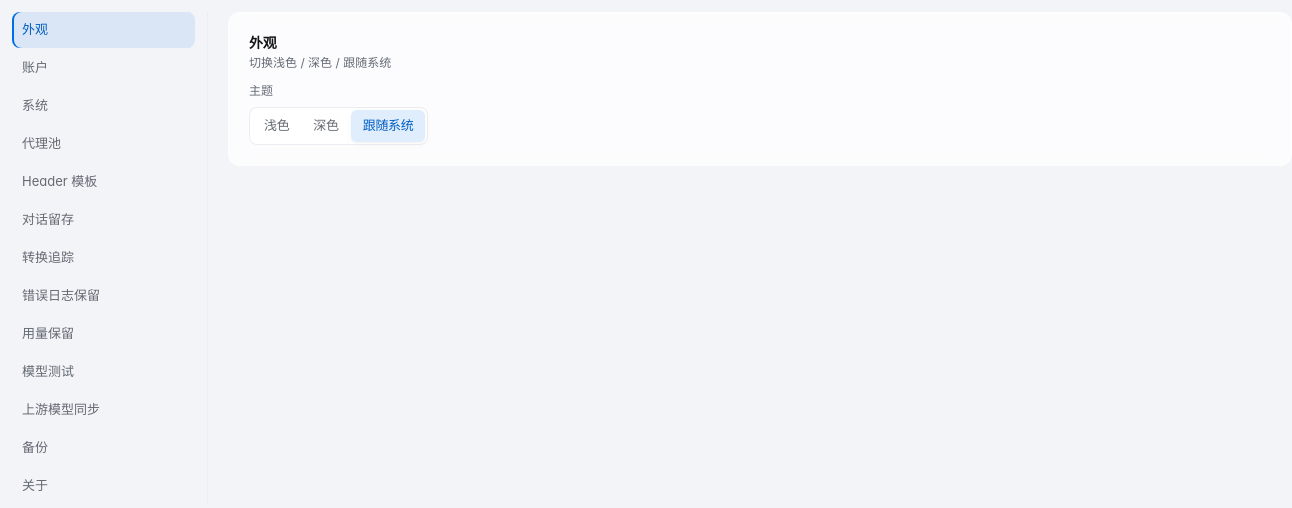
Test: <SettingsPage /> TesterSection 分组模型测试 › 选分组 → 开始测试 → 表格列出每个成员的测试结果
Click the button "模型测试": (104, 372) 12,354 -> 195,390
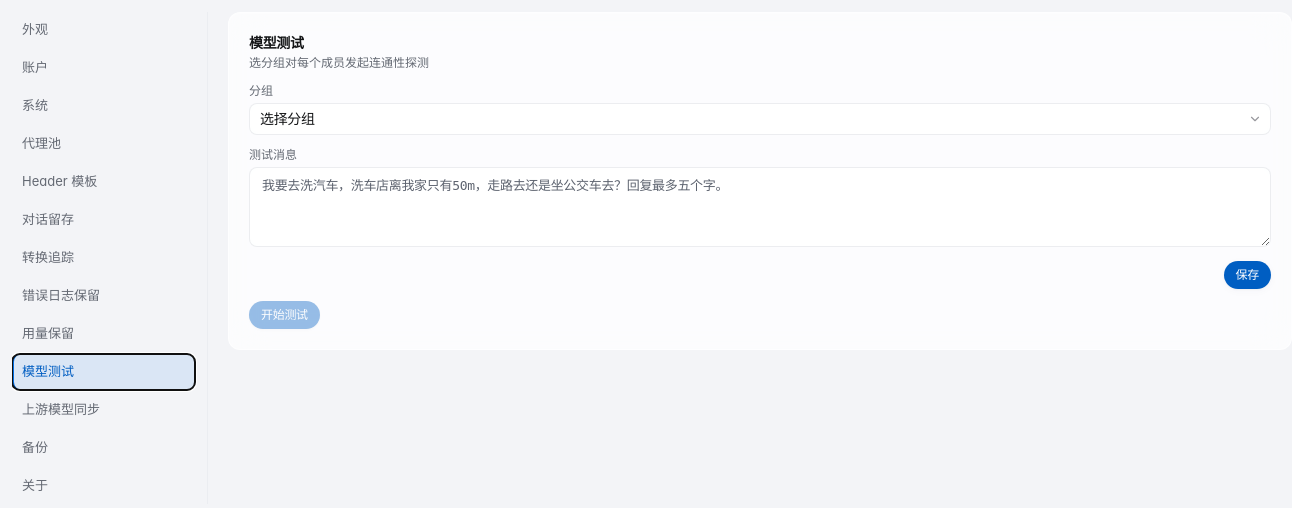
Select "default" in the dropdown labelled "分组": (760, 119) 249,103 -> 1271,135
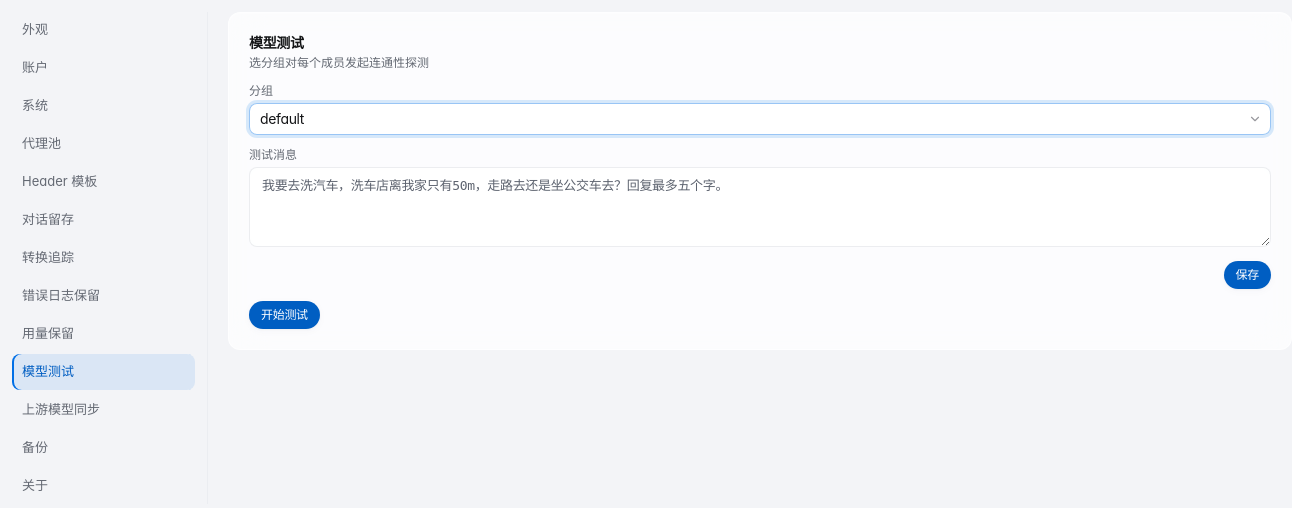
Click the button "开始测试": (284, 315) 249,301 -> 320,329
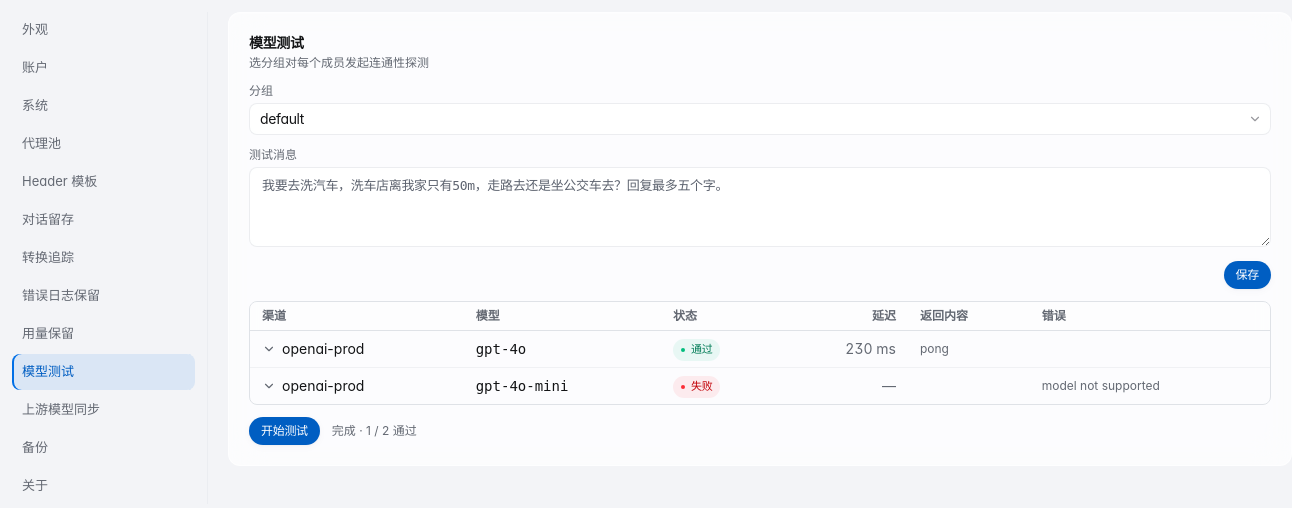
Expected: the text "gpt-4o" is shown, 464,330 -> 661,367
Expected: the text "gpt-4o-mini" is shown, 464,367 -> 661,404
Expected: the text "完成 · 1 / 2 通过" is shown, 332,423 -> 417,439
